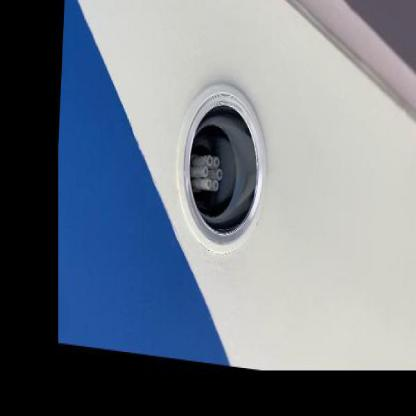light_off: (165, 36, 281, 273)
